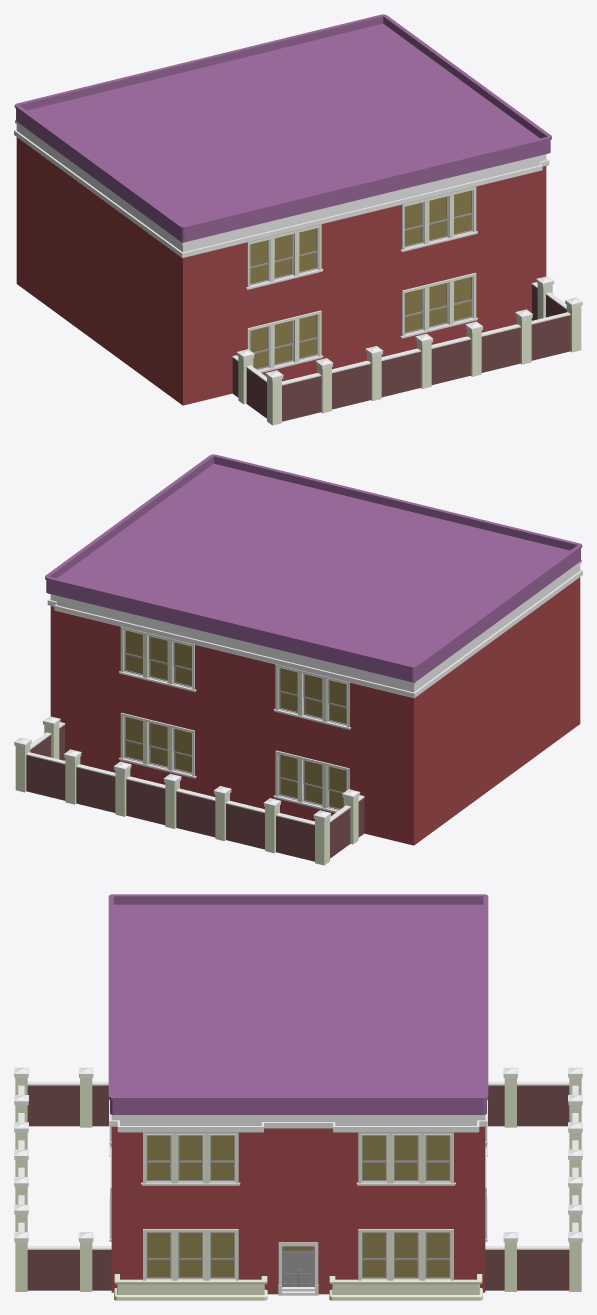
Rendered from townHall_1.fbx.
3 views of the same model, one above another, from view 1: azimuth 30°, elevation 25°; view 2: azimuth 150°, elevation 25°; view 3: azimuth 270°, elevation 25° (orthographic). The views are drawn at different scales.
Parts seen in each view (by area): view 1: roofWall, outerWalls, window (×4), roofBase, brickWall5, brickWall4, brickWall3, brickWall6, brickWall8, brickWall7, brickWall9, pCube18 (+7 smaller); view 2: roofWall, outerWalls, window (×4), roofBase, brickWall5, brickWall4, brickWall3, brickWall6, brickWall8, brickWall7, brickWall9, pCube18 (+7 smaller); view 3: roofWall, outerWalls, window (×2), roofBase, window1, window2, brickWall9 (×2), brickWall2 (×2), base1, base2, brickWall1 (×2), pCube20 (×2) (+5 smaller).
Boxes of the visible parts, <box> form: roofWall: <box>14,14,551,242</box>; outerWalls: <box>16,137,546,405</box>; window (×4): <box>247,187,476,370</box>; roofBase: <box>14,120,549,258</box>; brickWall5: <box>431,336,470,384</box>; brickWall4: <box>481,324,520,372</box>; brickWall3: <box>531,312,570,360</box>; brickWall6: <box>381,349,420,397</box>; brickWall8: <box>282,373,321,421</box>; brickWall7: <box>332,361,370,409</box>; brickWall9: <box>246,365,266,418</box>; pCube18: <box>265,370,283,425</box>; roofWall: <box>45,454,582,682</box>; outerWalls: <box>50,577,580,845</box>; window (×4): <box>120,627,349,810</box>; roofBase: <box>47,560,582,698</box>; brickWall5: <box>126,776,165,824</box>; brickWall4: <box>76,764,115,812</box>; brickWall3: <box>26,752,65,800</box>; brickWall6: <box>176,789,215,837</box>; brickWall8: <box>275,813,314,861</box>; brickWall7: <box>226,801,264,849</box>; brickWall9: <box>330,805,350,858</box>; pCube18: <box>313,810,331,865</box>; roofWall: <box>108,894,488,1114</box>; outerWalls: <box>111,1127,485,1294</box>; window (×2): <box>143,1132,453,1183</box>; roofBase: <box>109,1099,487,1132</box>; window1: <box>143,1229,238,1280</box>; window2: <box>358,1229,453,1280</box>; brickWall9 (×2): <box>27,1081,569,1126</box>; brickWall2 (×2): <box>27,1246,569,1290</box>; base1: <box>329,1274,482,1300</box>; base2: <box>114,1274,267,1300</box>; brickWall1 (×2): <box>92,1246,504,1290</box>; pCube20 (×2): <box>78,1067,518,1127</box>.
Bounding box in the file's own units: 25.2 × 11.54 × 29.54.
